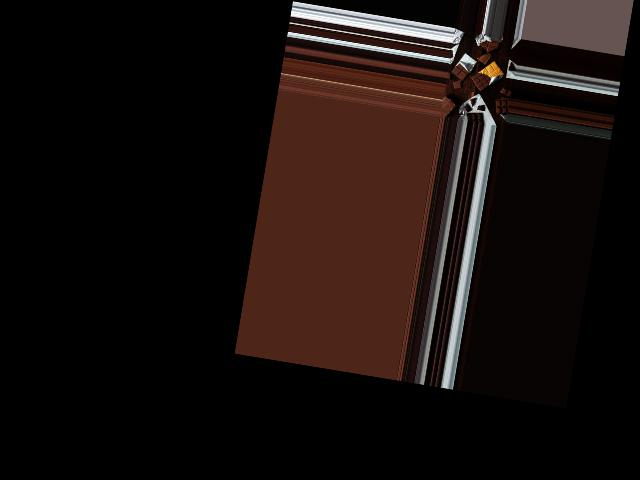chocolate: (448, 52, 478, 82)
